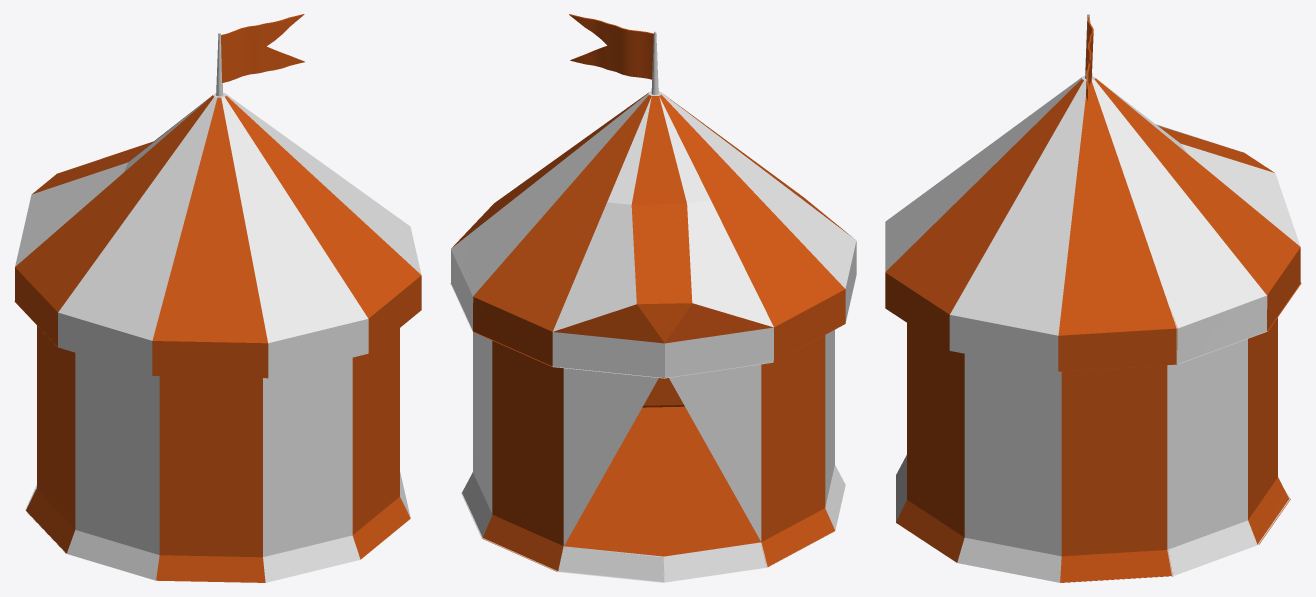
The model's file is circus1.fbx.
The picture shows the model from 3 angles, left to right: view 1: azimuth 30°, elevation 25°; view 2: azimuth 150°, elevation 25°; view 3: azimuth 270°, elevation 25°; orthographic projection. The views are drawn at different scales.
Parts seen in each view (by area): view 1: circus1; view 2: circus1; view 3: circus1.
Part boxes in pixels (x1,y1,x2,y2): circus1: [14, 14, 421, 582]; circus1: [450, 14, 856, 582]; circus1: [885, 14, 1301, 582].
Bounding box in the file's own units: 253 × 323 × 251.
